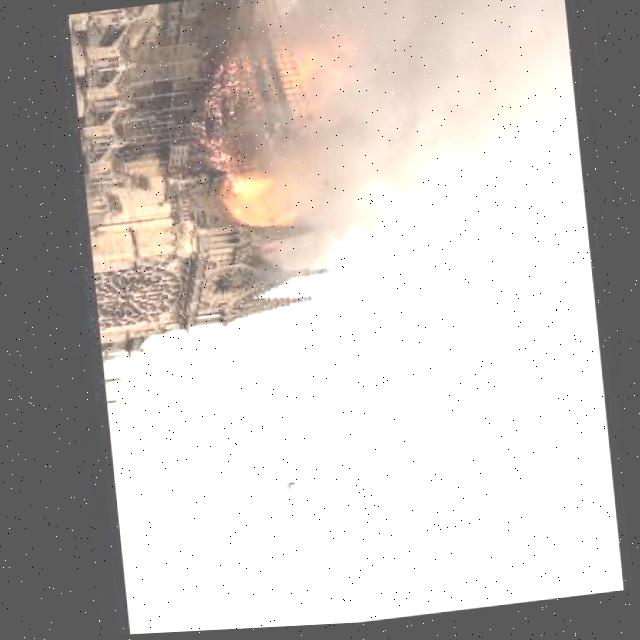Fire: (273, 18, 375, 122), (211, 159, 324, 244)
Smoke: (311, 0, 581, 217)
